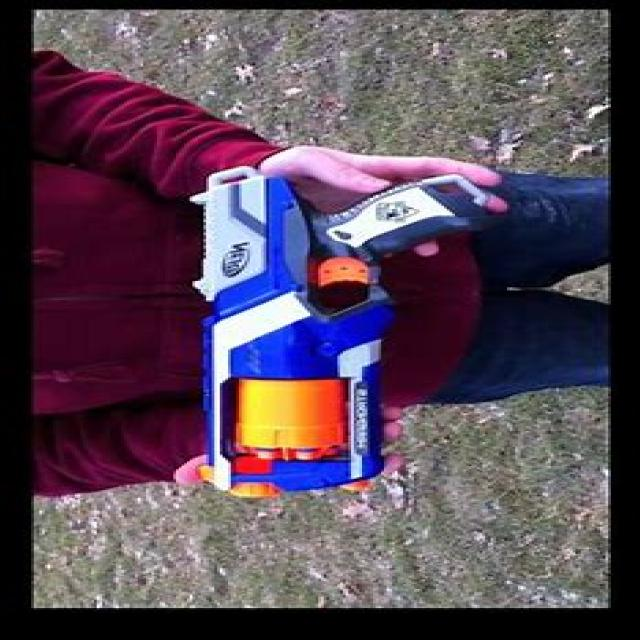nerf-maverik: (185, 161, 512, 507)
